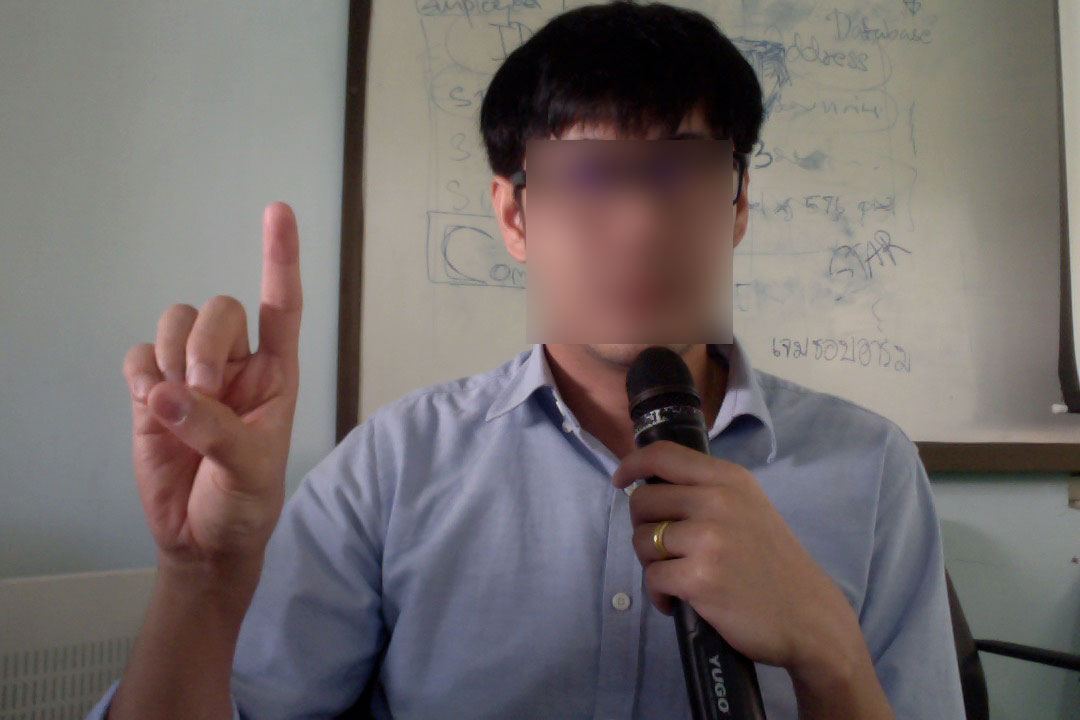dor: (117, 194, 313, 589)
